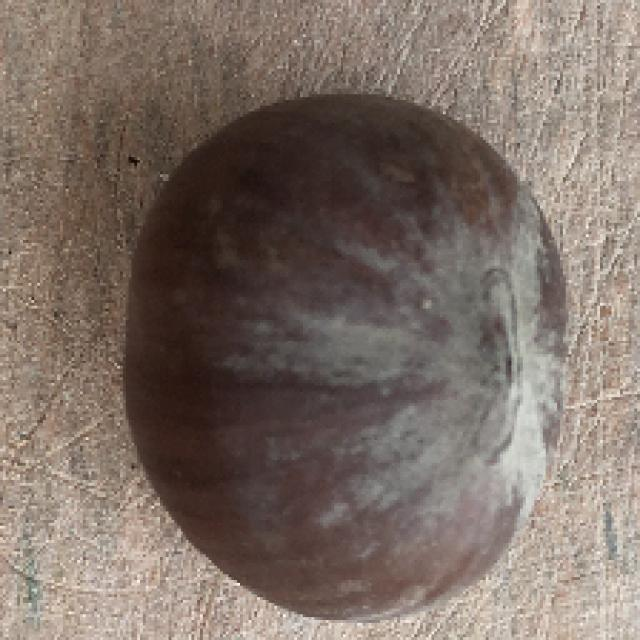qualityHazelnut: (114, 81, 586, 627)
